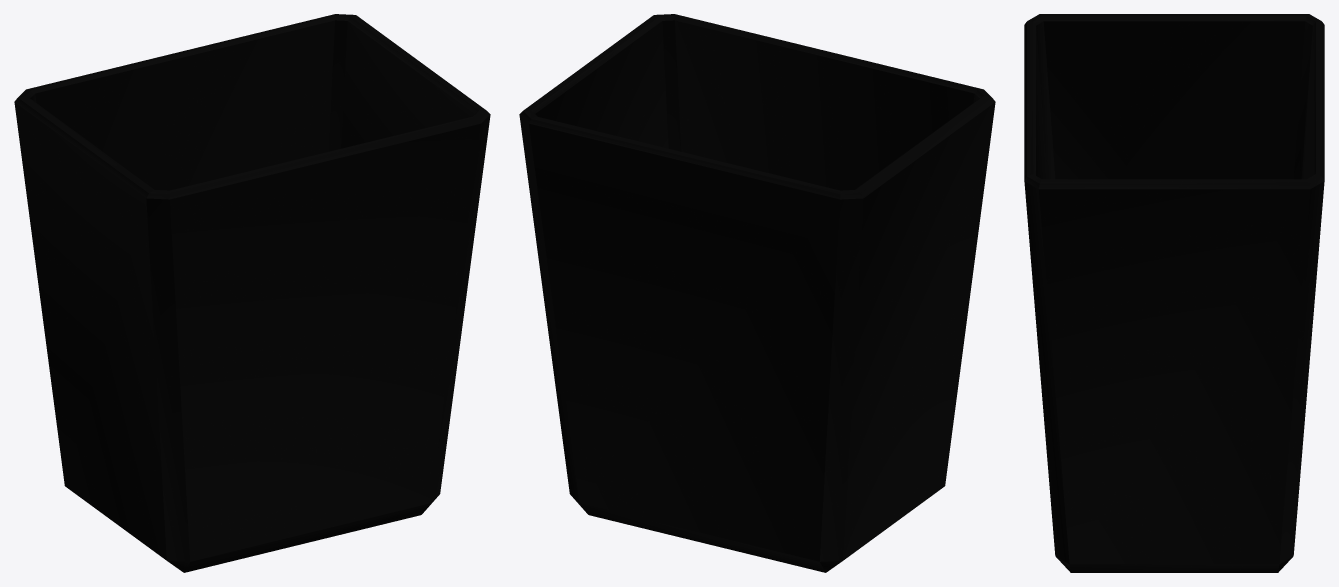
The model's file is trash.glb.
The picture shows the model from 3 angles, left to right: view 1: azimuth 30°, elevation 25°; view 2: azimuth 150°, elevation 25°; view 3: azimuth 270°, elevation 25°; orthographic projection. The views are drawn at different scales.
Parts seen in each view (by area): view 1: Trash_apt_01; view 2: Trash_apt_01; view 3: Trash_apt_01.
Boxes of the visible parts, box(x1,y1,x2,y2) form: Trash_apt_01: box(14, 14, 490, 572); Trash_apt_01: box(519, 14, 995, 572); Trash_apt_01: box(1024, 14, 1324, 572).
Bounding box in the file's own units: 0.428 × 0.48 × 0.3143.
Materials: 1 (1 with a texture image).
